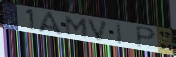1: (25, 8, 36, 32)
A: (37, 10, 66, 37)
I: (116, 22, 123, 46)
M: (65, 15, 90, 39)
P: (135, 24, 158, 50)
V: (87, 18, 111, 43)
